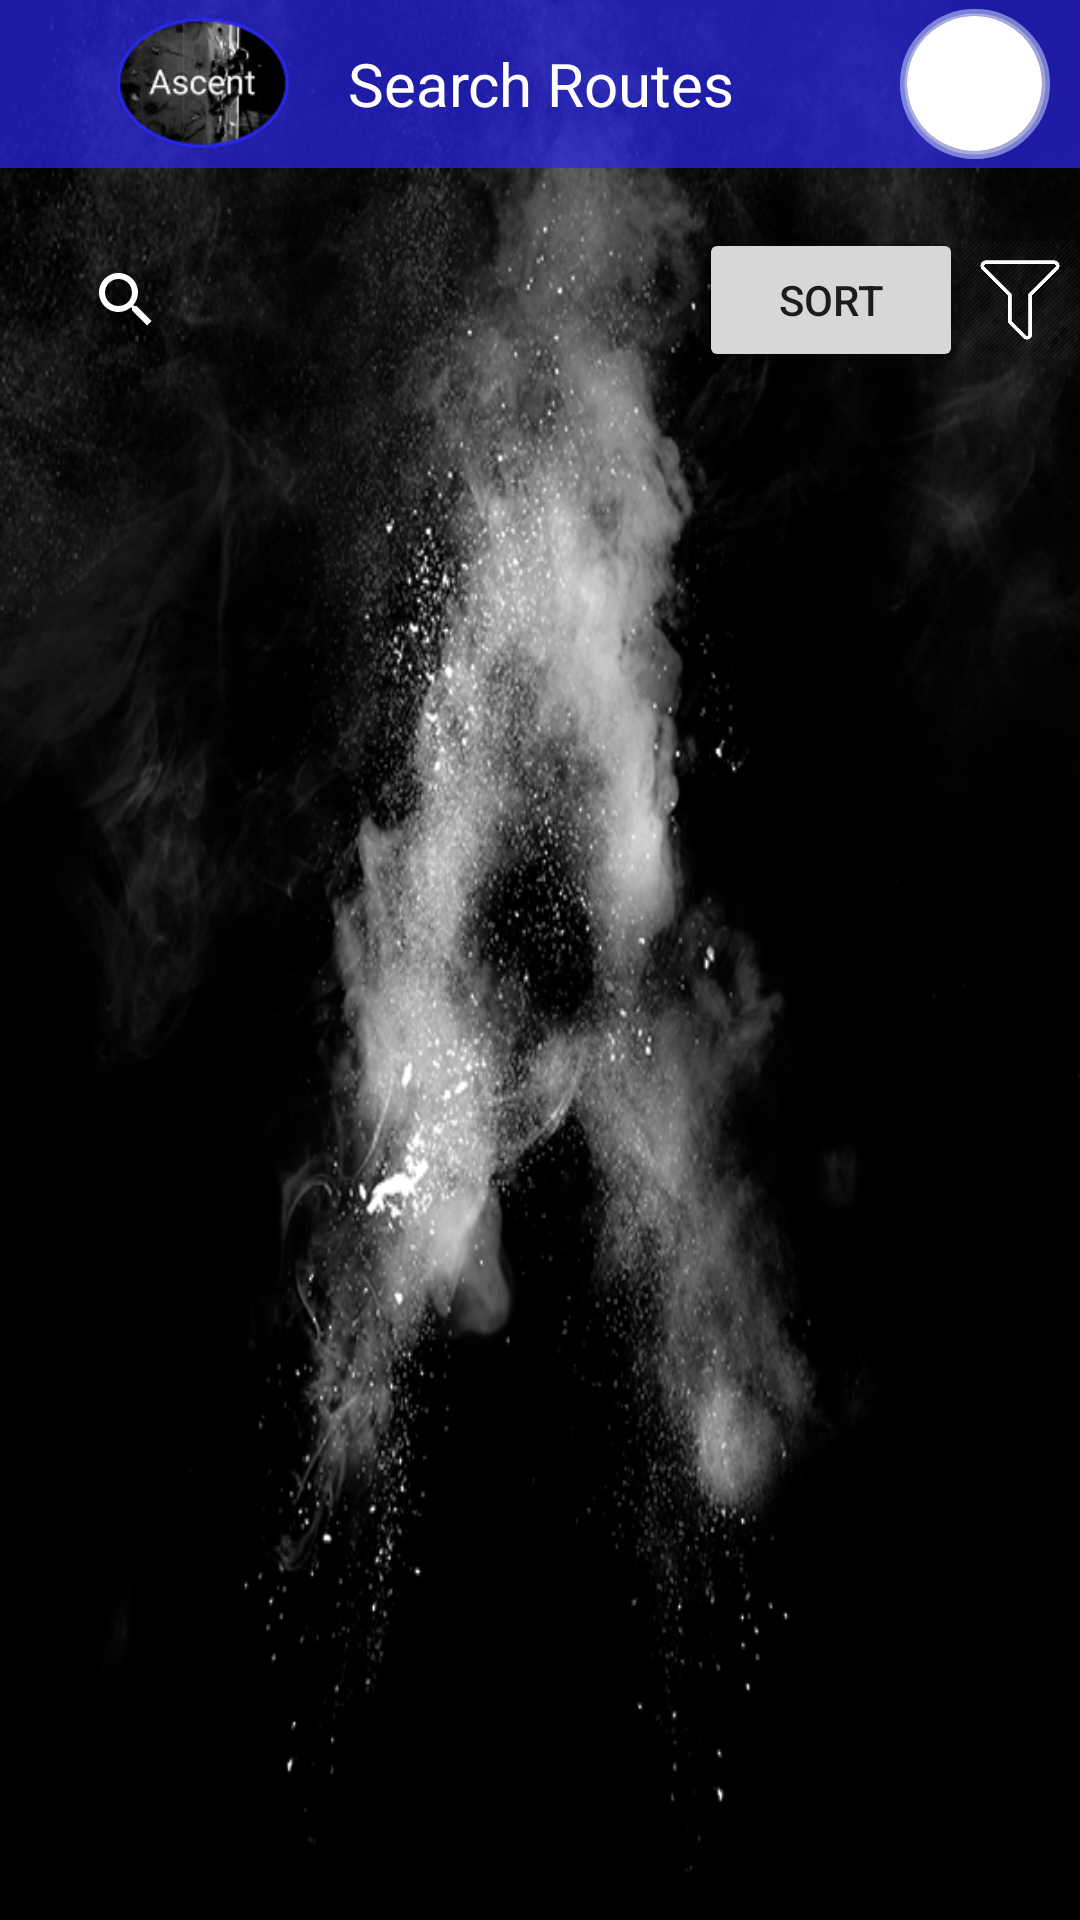

Icons on this 1080x1920 Android screen, each with the point to tap as (x=x, y=y):
filter: (x=1014, y=300)
